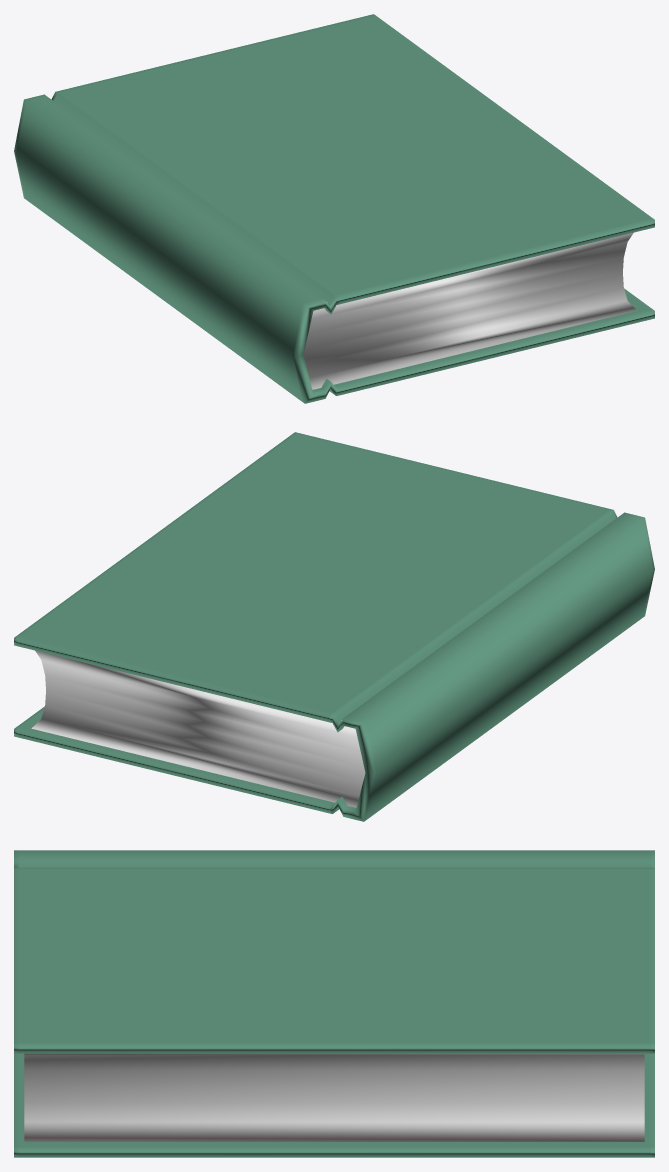
File: simple_book.glb
3 views of the same model, one above another, from view 1: azimuth 30°, elevation 25°; view 2: azimuth 150°, elevation 25°; view 3: azimuth 270°, elevation 25° (orthographic). The views are drawn at different scales.
Visible parts, largest first — view 1: Cube, Cube.001; view 2: Cube, Cube.001; view 3: Cube, Cube.001.
Boxes of the visible parts, <box> form: Cube: <box>14,14,654,403</box>; Cube.001: <box>303,232,637,389</box>; Cube: <box>14,432,654,821</box>; Cube.001: <box>31,650,365,807</box>; Cube: <box>14,850,654,1157</box>; Cube.001: <box>24,1053,644,1141</box>.
Size of the model in its own units: 5.18 by 1.36 by 7.01.
